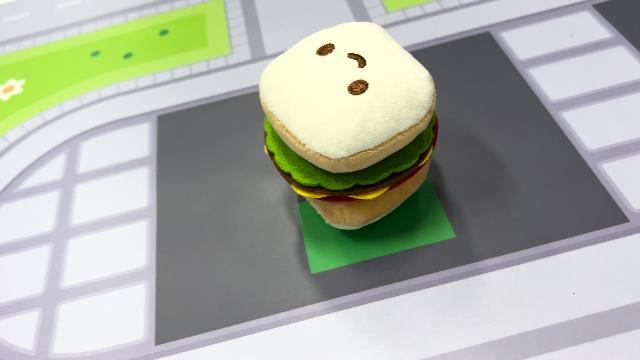sandwich: (255, 19, 442, 231)
